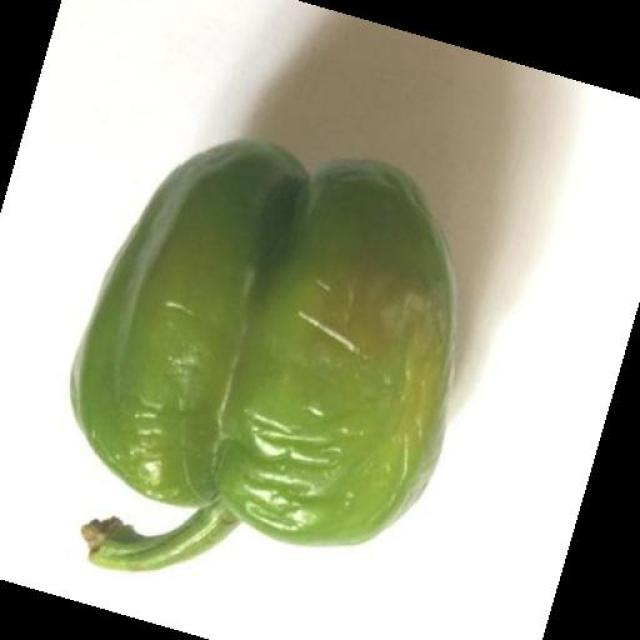Stale_Capsicum: (57, 179, 483, 522)
